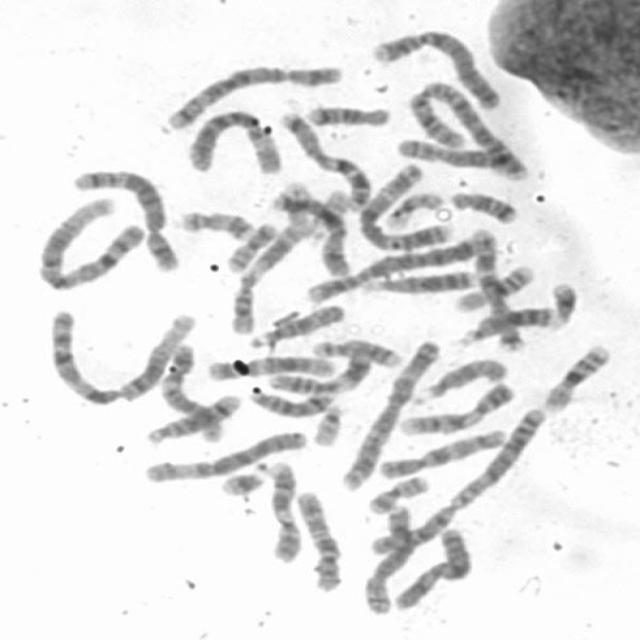A1: (38, 300, 201, 408), (30, 190, 150, 292)
A2: (365, 400, 553, 559), (404, 77, 532, 183)
A3: (336, 332, 446, 491), (354, 158, 454, 252)
B4: (303, 232, 490, 306), (366, 24, 507, 112)
B5: (160, 58, 347, 132), (67, 164, 181, 274)
C10: (372, 422, 514, 480), (291, 484, 345, 592)
C11: (227, 211, 315, 335), (263, 340, 377, 395)
C12: (159, 340, 227, 444), (203, 350, 339, 382)
C6: (138, 425, 310, 485), (180, 105, 285, 177)
C7: (271, 104, 374, 213), (467, 223, 529, 353)
C8: (358, 500, 416, 616), (391, 133, 529, 179)
C9: (394, 378, 516, 437), (259, 456, 301, 563)
D13: (447, 302, 558, 349), (356, 264, 482, 296)
D14: (140, 387, 245, 445), (244, 384, 338, 419)
D15: (242, 297, 348, 350), (406, 352, 509, 404)
E16: (536, 338, 615, 414), (450, 259, 537, 313)
E17: (175, 204, 258, 243), (308, 334, 402, 368)
E18: (444, 184, 522, 226), (302, 100, 395, 128)
F19: (379, 187, 447, 230), (302, 184, 352, 242)
F20: (220, 217, 279, 274), (362, 470, 432, 516)
G21: (542, 276, 582, 329), (214, 461, 271, 497)
G22: (302, 184, 352, 242), (308, 398, 347, 448)
X: (266, 190, 352, 279), (388, 523, 474, 611)
